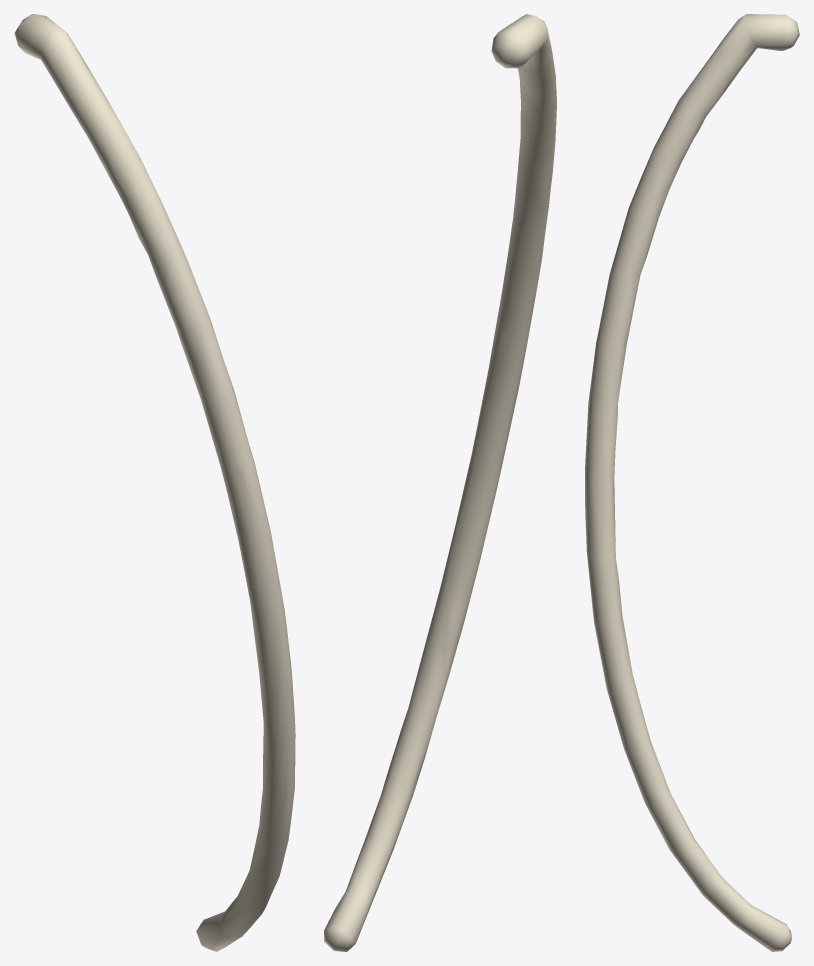
File: rib_4_l.glb
3 renders of one model, left to right at view 1: azimuth 30°, elevation 25°; view 2: azimuth 150°, elevation 25°; view 3: azimuth 270°, elevation 25°, orthographic. The views are drawn at different scales.
Visible parts, largest first — view 1: geometry_0; view 2: geometry_0; view 3: geometry_0.
Boxes of the visible parts, x1,y1,x2,y2 form: geometry_0: (14, 14, 295, 951); geometry_0: (324, 14, 556, 951); geometry_0: (585, 14, 799, 951).
Size of the model in its own units: 0.275 by 1.23 by 0.2782.
